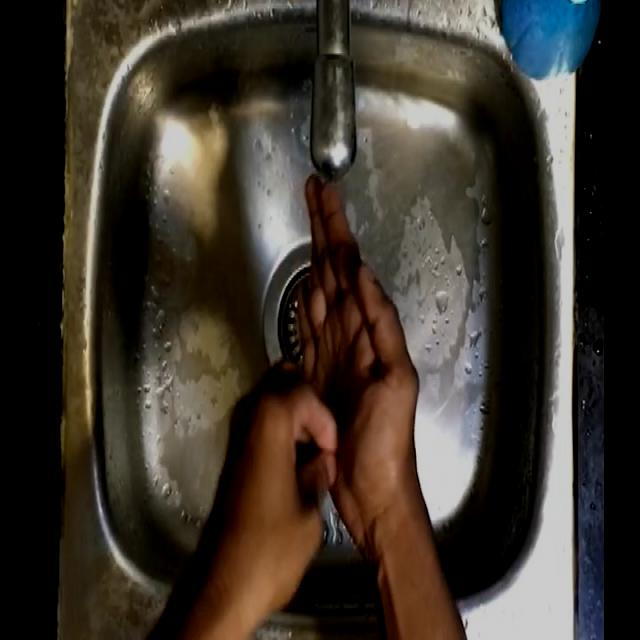step_6: (219, 168, 426, 585)
